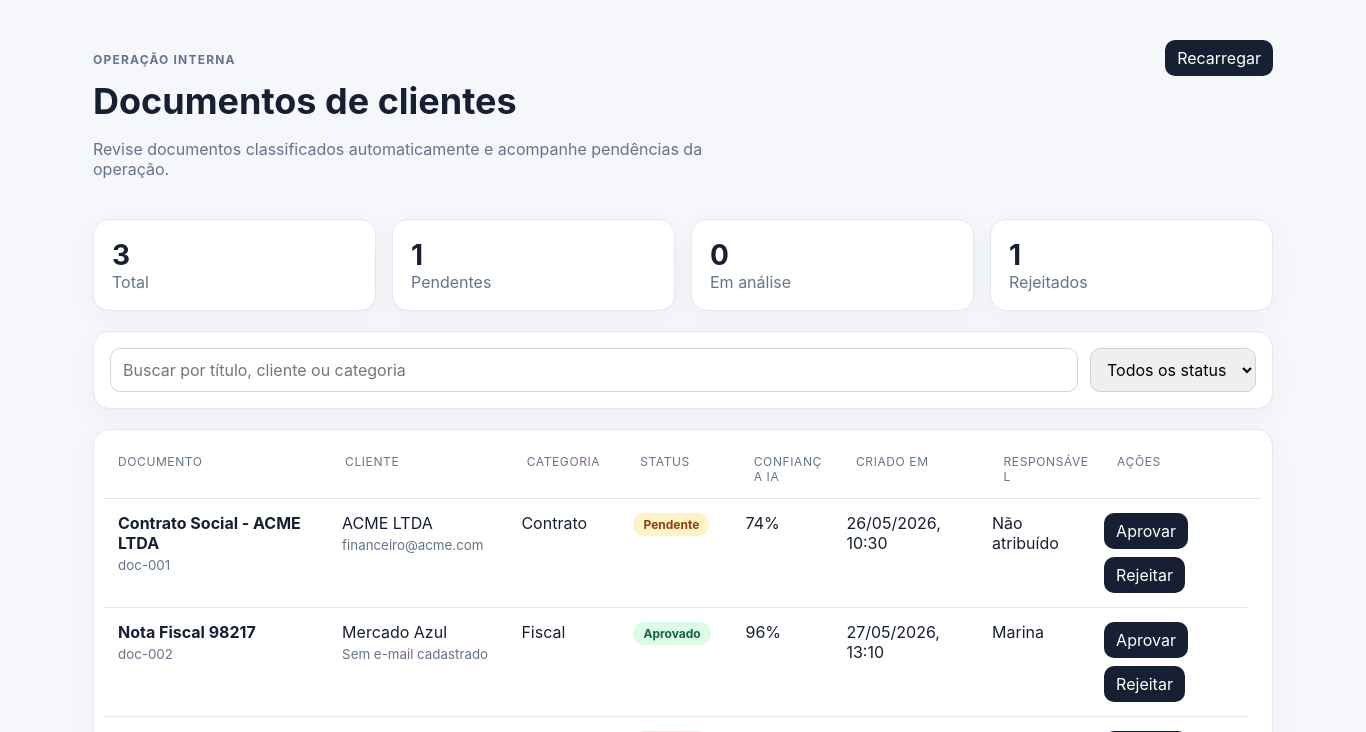
Scenario: filtros › filtro de status mostra apenas documentos com o status selecionado
Check: the text "Contrato Social - ACME LTDA" is shown, box [118,513,301,553]
Select "Rejeitado" in the dropdown at (1173, 370), box [1090,348,1256,392]
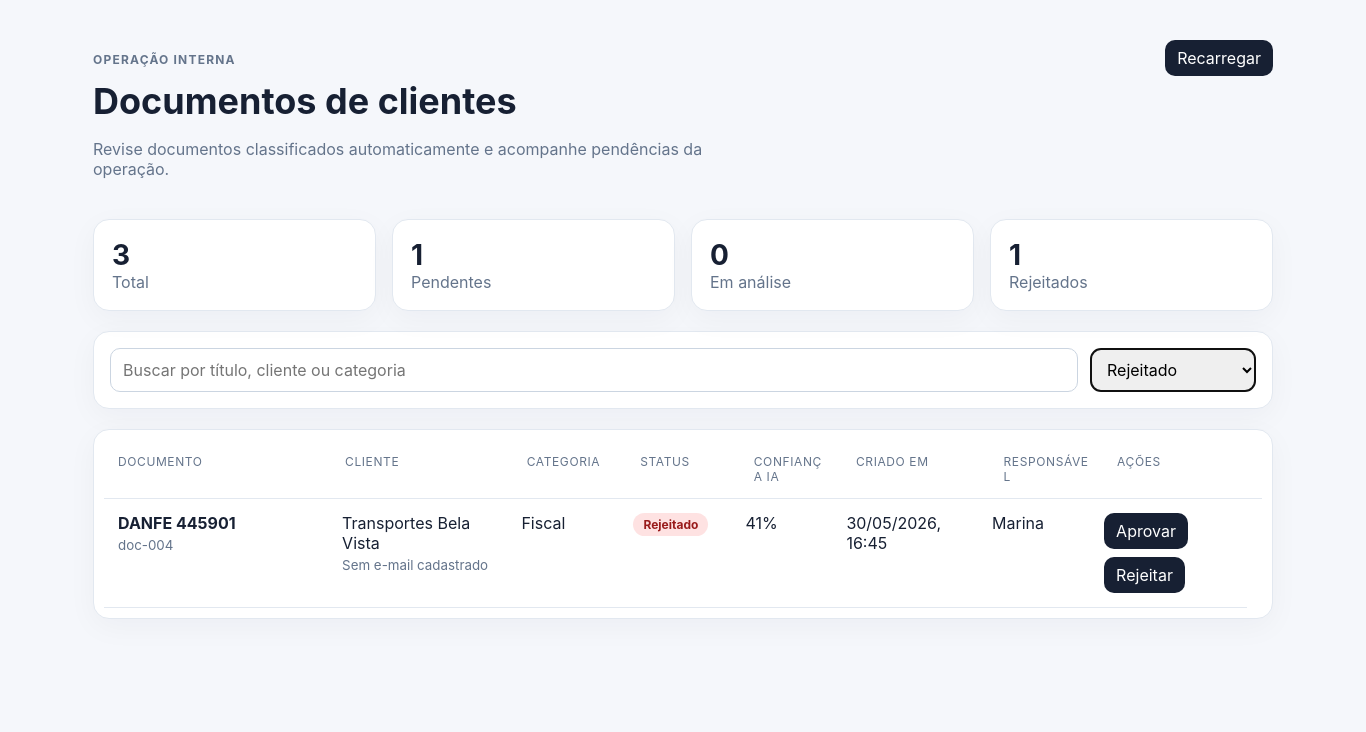
Check: the text "DANFE 445901" is shown, box [118,513,236,533]
Check: the text "Contrato Social - ACME LTDA" is gone
Check: the text "Nota Fiscal 98217" is gone
